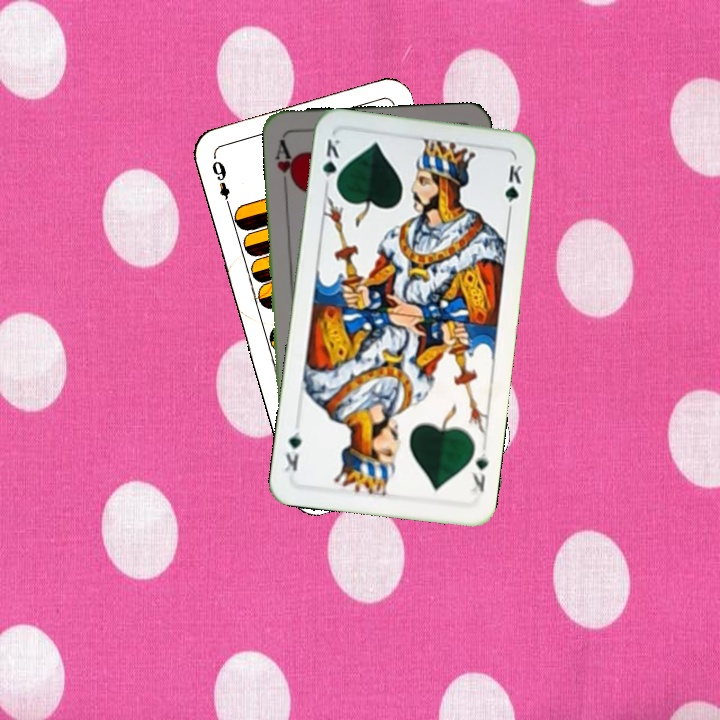E9: (207, 156, 234, 212)
GK: (319, 135, 342, 192), (467, 446, 491, 495)
HA: (271, 135, 299, 194)
